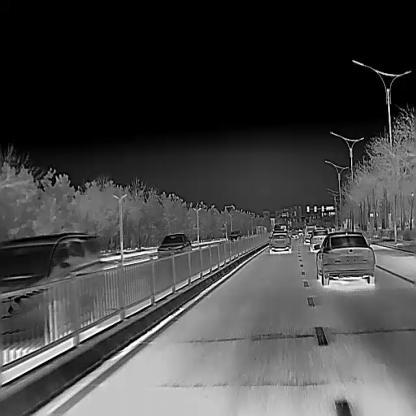car: (0, 231, 99, 345), (315, 230, 375, 285), (156, 231, 191, 264), (268, 230, 292, 253), (309, 228, 328, 252), (303, 224, 316, 245), (227, 228, 241, 243), (288, 225, 298, 238), (273, 222, 286, 231), (296, 227, 303, 235)
